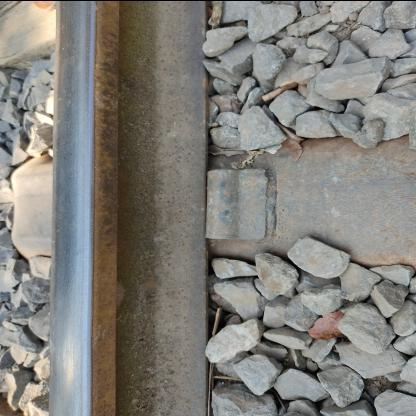Defective: (179, 106, 343, 272)
